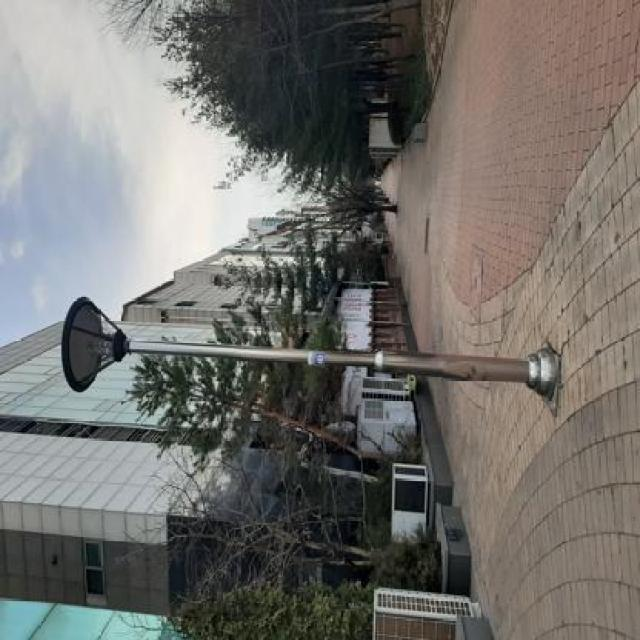pole: (47, 291, 576, 415)
